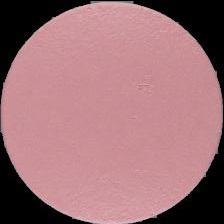60760-464: (0, 0, 224, 224)
